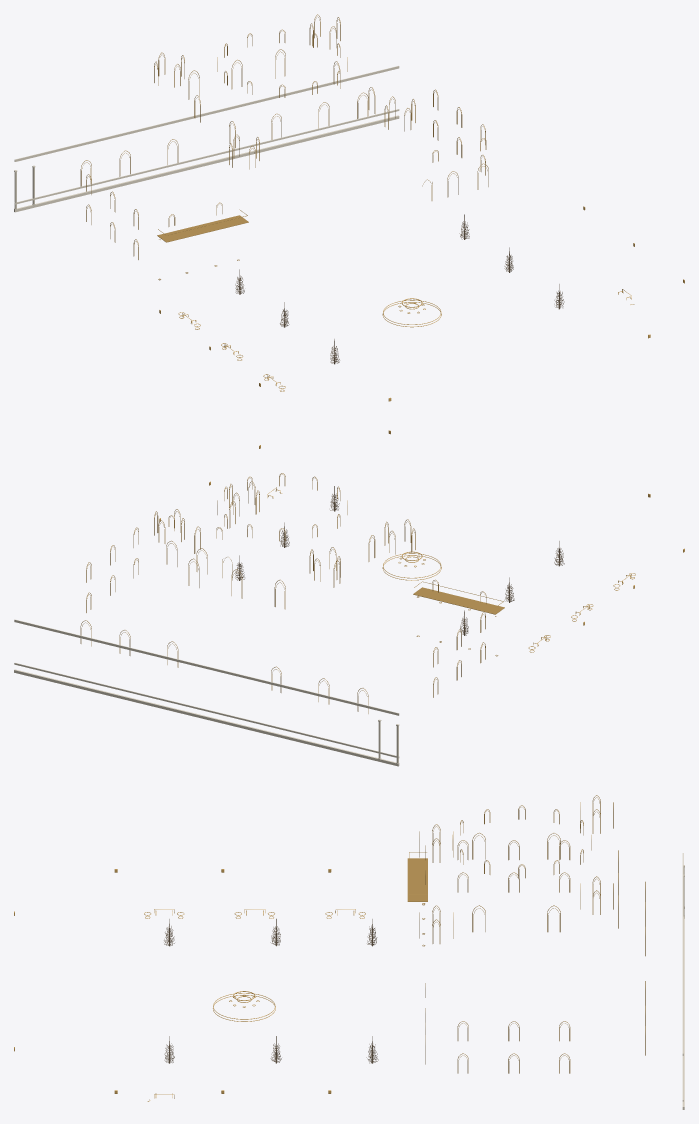
Rendered from castle-09.glb.
3 renders of one model, top to bottom at view 1: azimuth 30°, elevation 25°; view 2: azimuth 150°, elevation 25°; view 3: azimuth 270°, elevation 25°, orthographic. The views are drawn at different scales.
Parts seen in each view (by area): view 1: NC.Export.Fortifications.IvoryStone.08, NC.Export.Palace.RoyalGold.08, NC.Export.Palace.RoyalGold.05, NC.Export.Courtyard.PolishedBrass.00, NC.Export.Courtyard.BridgeTimber, NC.Export.Palace.RoyalGold.04, NC.Export.Palace.RoyalGold.07; view 2: NC.Export.Fortifications.IvoryStone.08, NC.Export.Palace.RoyalGold.08, NC.Export.Palace.RoyalGold.05, NC.Export.Courtyard.BridgeTimber, NC.Export.Courtyard.PolishedBrass.00, NC.Export.Palace.RoyalGold.04, NC.Export.Palace.RoyalGold.07, NC.Export.Palace.RoyalGold.06; view 3: NC.Export.Palace.RoyalGold.08, NC.Export.Courtyard.BridgeTimber, NC.Export.Courtyard.PolishedBrass.00, NC.Export.Palace.RoyalGold.04, NC.Export.Fortifications.IvoryStone.08, NC.Export.Palace.RoyalGold.07, NC.Export.Palace.RoyalGold.06, NC.Export.Palace.RoyalGold.05.
Boxes of the visible parts, x1,y1,x2,y2 form: NC.Export.Fortifications.IvoryStone.08: [14, 66, 399, 212]; NC.Export.Palace.RoyalGold.08: [154, 14, 486, 280]; NC.Export.Palace.RoyalGold.05: [80, 49, 438, 186]; NC.Export.Courtyard.PolishedBrass.00: [159, 206, 684, 401]; NC.Export.Courtyard.BridgeTimber: [235, 214, 564, 364]; NC.Export.Palace.RoyalGold.04: [86, 107, 488, 259]; NC.Export.Palace.RoyalGold.07: [158, 52, 415, 169]; NC.Export.Fortifications.IvoryStone.08: [14, 619, 399, 766]; NC.Export.Palace.RoyalGold.08: [154, 509, 504, 656]; NC.Export.Palace.RoyalGold.05: [80, 535, 375, 713]; NC.Export.Courtyard.BridgeTimber: [235, 486, 564, 635]; NC.Export.Courtyard.PolishedBrass.00: [159, 430, 684, 652]; NC.Export.Palace.RoyalGold.04: [91, 527, 485, 697]; NC.Export.Palace.RoyalGold.07: [229, 481, 415, 581]; NC.Export.Palace.RoyalGold.06: [194, 473, 347, 583]; NC.Export.Palace.RoyalGold.08: [407, 795, 613, 1022]; NC.Export.Courtyard.BridgeTimber: [164, 918, 378, 1063]; NC.Export.Courtyard.PolishedBrass.00: [14, 869, 365, 1101]; NC.Export.Palace.RoyalGold.04: [425, 840, 570, 1073]; NC.Export.Fortifications.IvoryStone.08: [682, 853, 684, 1109]; NC.Export.Palace.RoyalGold.07: [419, 802, 613, 943]; NC.Export.Palace.RoyalGold.06: [452, 805, 591, 932]; NC.Export.Palace.RoyalGold.05: [472, 832, 645, 1073].
Size of the model in its own units: 98.26 by 36.15 by 126.
